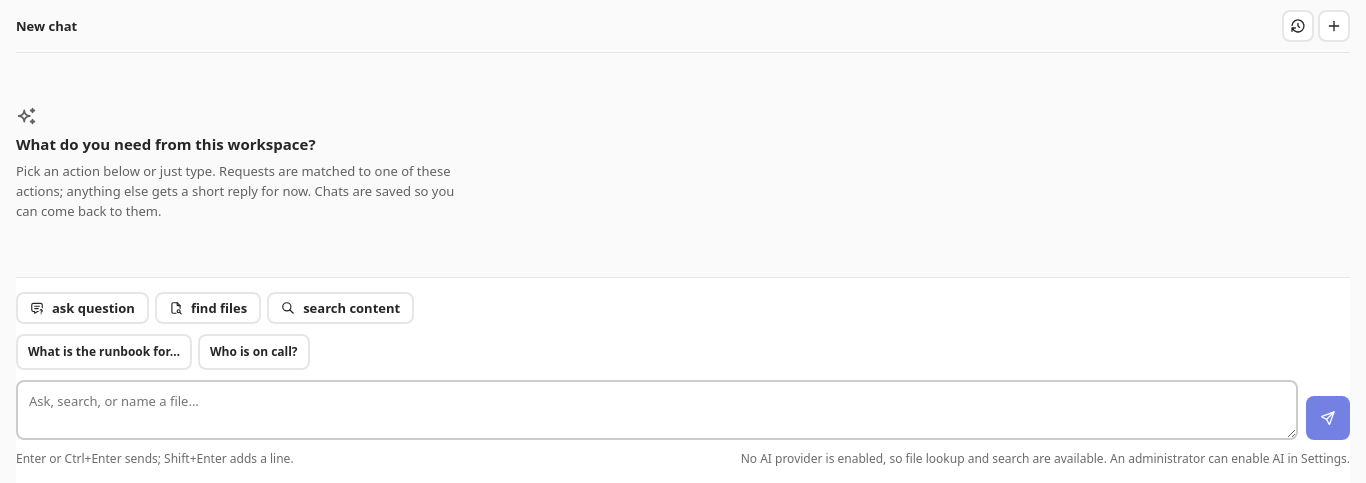
Test: the assistant panel with a template › lists its jobs in the template's order and suggests its questions, which fill the box and send nothing
Check: the buttons read "ask question", "find files", "search content", in this order, box [16, 292, 149, 324]; [155, 292, 261, 324]; [267, 292, 414, 324]
Click the button "What is the runbook for…": [104, 352] box [16, 334, 192, 370]
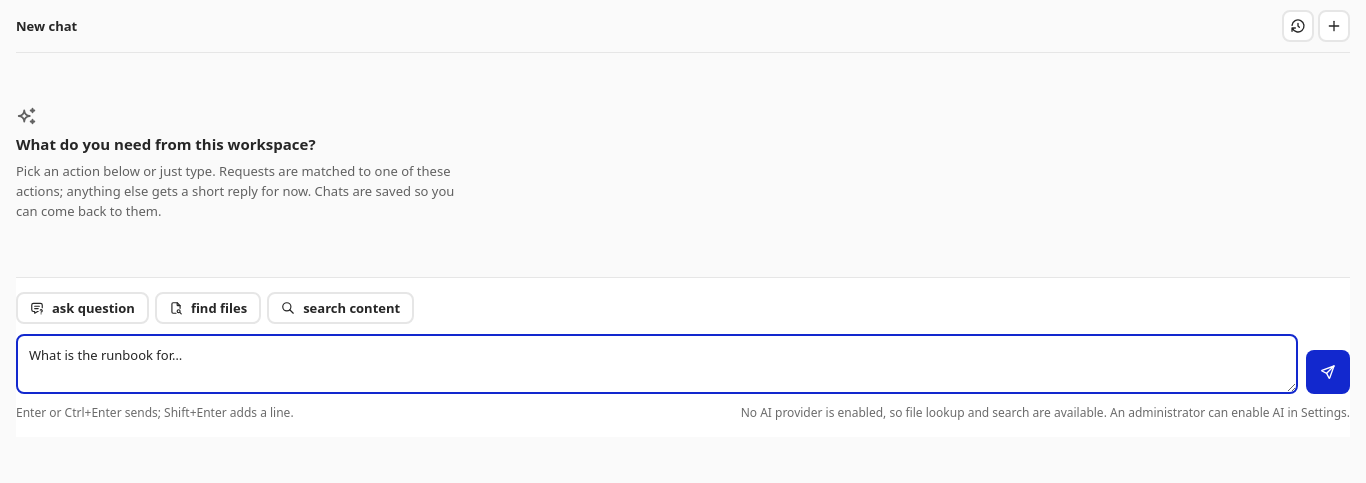
Check: the text box named "Message the assistant" holds "What is the runbook for…", box [16, 334, 1298, 394]
